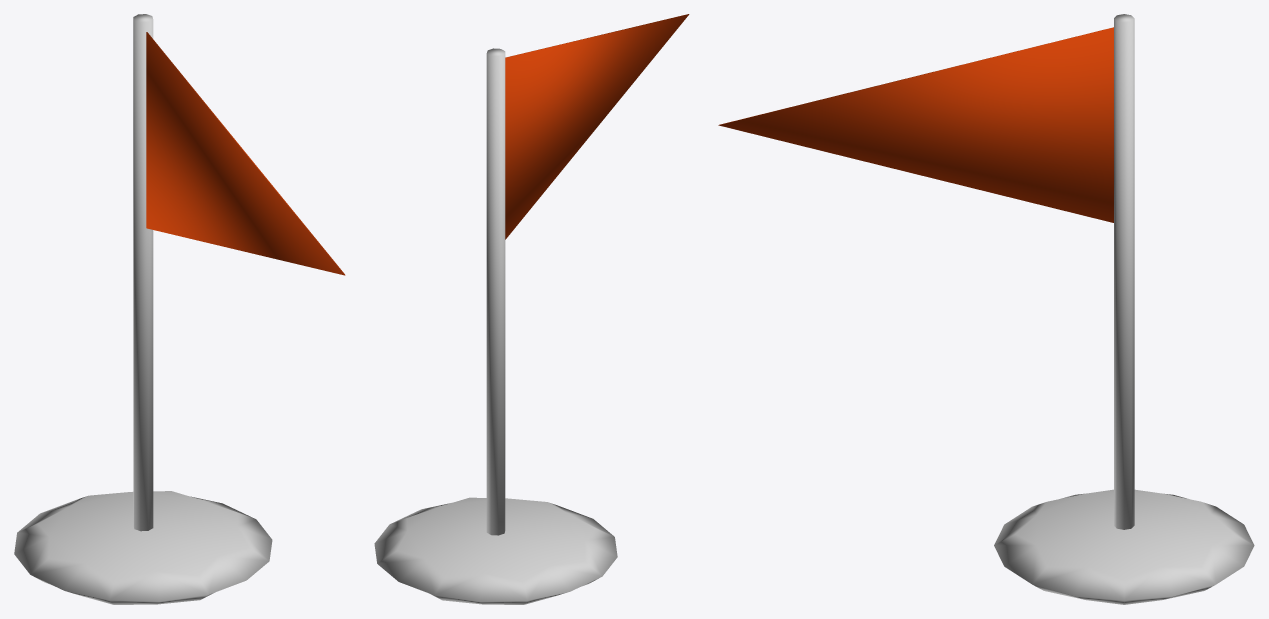
Rendered from stylized-flag.gltf.
3 renders of one model, left to right at view 1: azimuth 30°, elevation 25°; view 2: azimuth 150°, elevation 25°; view 3: azimuth 270°, elevation 25°, orthographic. The views are drawn at different scales.
Bounding box in the file's own units: 1.05 × 2.46 × 2.17.
